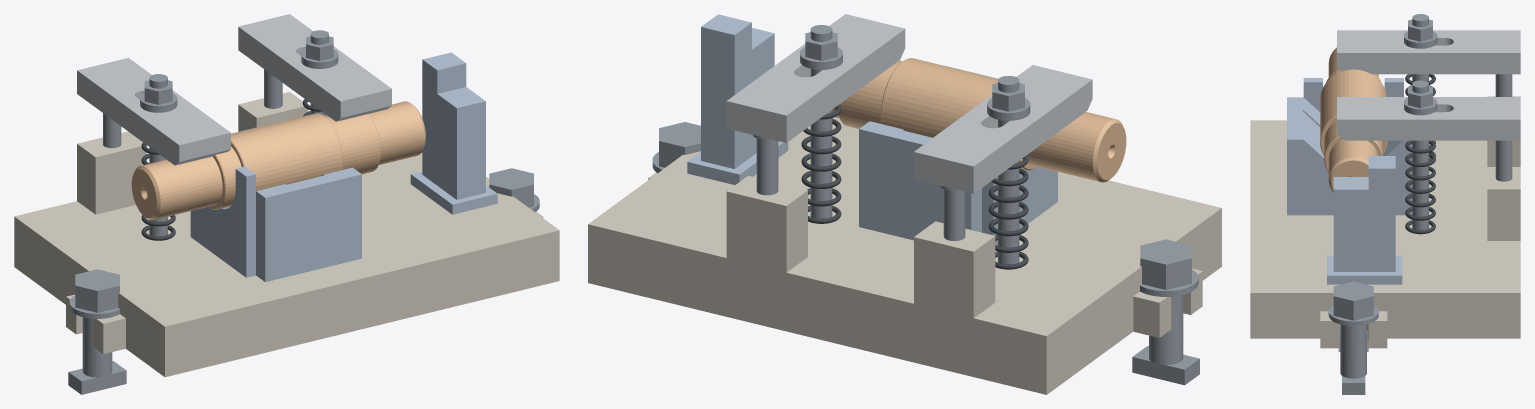
3 renders of one model, left to right at view 1: azimuth 30°, elevation 25°; view 2: azimuth 150°, elevation 25°; view 3: azimuth 270°, elevation 25°, orthographic. The views are drawn at different scales.
Visible parts, largest first — view 1: p01, p21, p04, p16, p11, p06, p05, p17, p18, p20, p09, p14 (+4 smaller); view 2: p01, p21, p11, p06, p16, p04, p17, p18, p13, p05, p15, p10 (+6 smaller); view 3: p01, p16, p06, p11, p04, p21, p19, p20, p15, p13, p05, p12 (+4 smaller).
Part boxes in pixels (x1=…): p01: x1=14, y1=92, x2=559, y2=377; p21: x1=131, y1=101, x2=425, y2=220; p04: x1=231, y1=120, x2=361, y2=282; p16: x1=410, y1=52, x2=497, y2=214; p11: x1=238, y1=14, x2=391, y2=121; p06: x1=77, y1=58, x2=230, y2=165; p05: x1=190, y1=166, x2=255, y2=277; p17: x1=68, y1=317, x2=126, y2=394; p18: x1=69, y1=269, x2=119, y2=318; p20: x1=489, y1=168, x2=539, y2=212; p09: x1=140, y1=80, x2=177, y2=112; p14: x1=301, y1=36, x2=338, y2=68; p01: x1=588, y1=117, x2=1221, y2=394; p21: x1=832, y1=58, x2=1126, y2=182; p11: x1=726, y1=14, x2=905, y2=142; p06: x1=914, y1=65, x2=1092, y2=193; p16: x1=687, y1=14, x2=788, y2=184; p04: x1=859, y1=66, x2=998, y2=240; p17: x1=1132, y1=295, x2=1199, y2=385; p18: x1=1140, y1=239, x2=1198, y2=296; p13: x1=810, y1=25, x2=832, y2=218; p05: x1=982, y1=166, x2=1057, y2=245; p15: x1=801, y1=105, x2=841, y2=223; p10: x1=988, y1=155, x2=1028, y2=269; p01: x1=1250, y1=96, x2=1520, y2=348; p16: x1=1327, y1=156, x2=1402, y2=284; p06: x1=1337, y1=30, x2=1520, y2=74; p11: x1=1337, y1=97, x2=1520, y2=140; p04: x1=1287, y1=97, x2=1412, y2=215; p21: x1=1320, y1=47, x2=1387, y2=192; p19: x1=1340, y1=324, x2=1366, y2=394; p20: x1=1328, y1=281, x2=1378, y2=325; p15: x1=1405, y1=140, x2=1435, y2=234; p13: x1=1412, y1=80, x2=1428, y2=230; p05: x1=1303, y1=78, x2=1403, y2=111; p12: x1=1495, y1=140, x2=1512, y2=181.
Bounding box in the file's own units: 0.287 × 0.1541 × 0.162.
